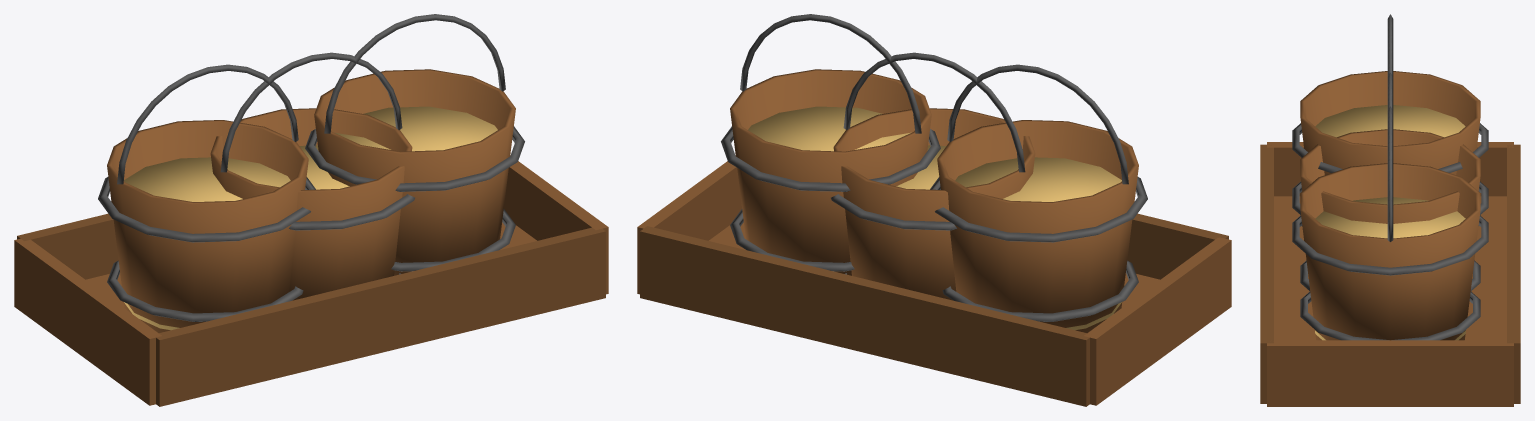
Rendered from Crop_MapleSap.fbx.
The picture shows the model from 3 angles, left to right: view 1: azimuth 30°, elevation 25°; view 2: azimuth 150°, elevation 25°; view 3: azimuth 270°, elevation 25°; orthographic projection. The views are drawn at different scales.
Visible parts, largest first — view 1: Crop_MapleSap__Stack, Crop_MapleSap; view 2: Crop_MapleSap__Stack, Crop_MapleSap; view 3: Crop_MapleSap__Stack, Crop_MapleSap.
Boxes of the visible parts, x1,y1,x2,y2 form: Crop_MapleSap__Stack: [14, 14, 608, 406]; Crop_MapleSap: [210, 52, 414, 300]; Crop_MapleSap__Stack: [637, 14, 1231, 406]; Crop_MapleSap: [831, 52, 1035, 300]; Crop_MapleSap__Stack: [1260, 14, 1520, 406]; Crop_MapleSap: [1292, 72, 1488, 290].
Size of the model in its own units: 0.288 by 0.155 by 0.155.
